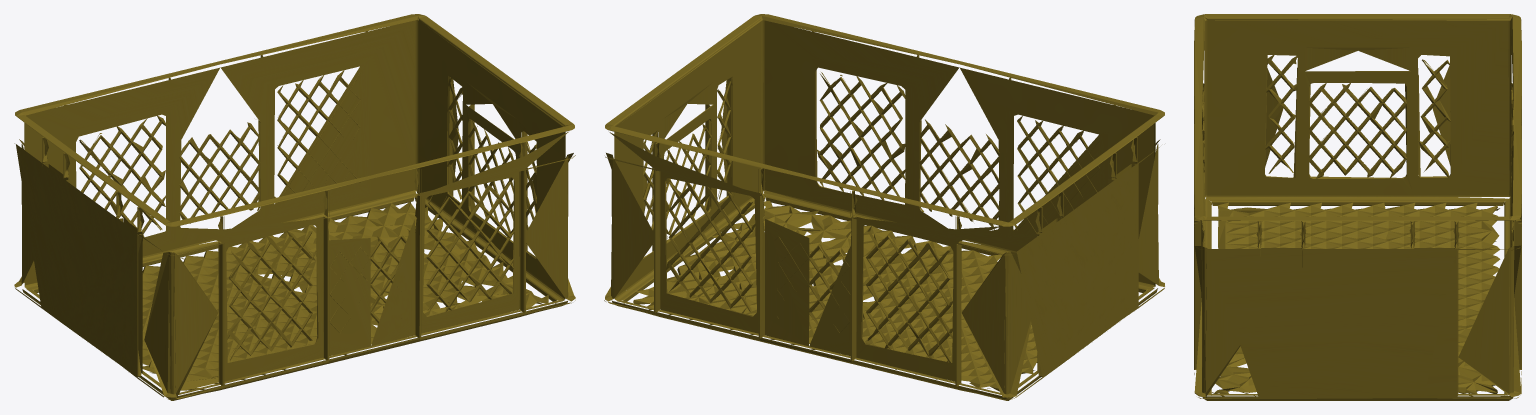
The model's file is crate_yellow_a01.glb.
3 renders of one model, left to right at view 1: azimuth 30°, elevation 25°; view 2: azimuth 150°, elevation 25°; view 3: azimuth 270°, elevation 25°, orthographic. The views are drawn at different scales.
Parts seen in each view (by area): view 1: geometry_0; view 2: geometry_0; view 3: geometry_0.
Boxes of the visible parts, bbox=[...] form: geometry_0: bbox=[14, 14, 575, 400]; geometry_0: bbox=[604, 14, 1164, 400]; geometry_0: bbox=[1194, 14, 1521, 400].
Size of the model in its own units: 0.42 by 0.1767 by 0.2812.
Materials: 1 (1 with a texture image).
